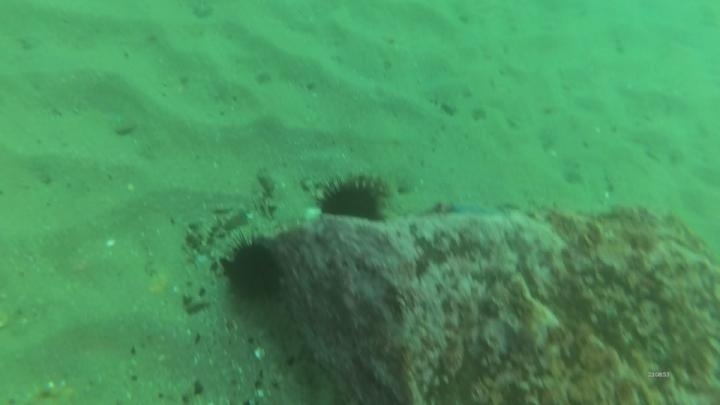echinus: (218, 232, 289, 308), (313, 171, 390, 226)
starfish: (446, 194, 501, 219)
